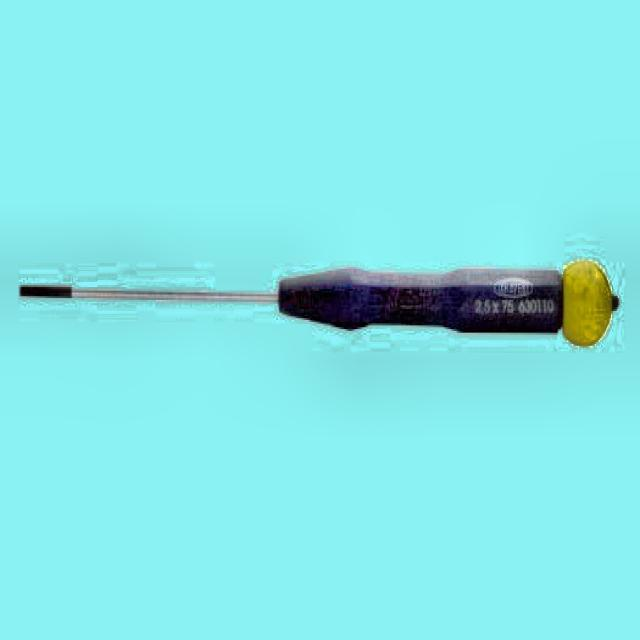screwdriver: (19, 258, 620, 348)
